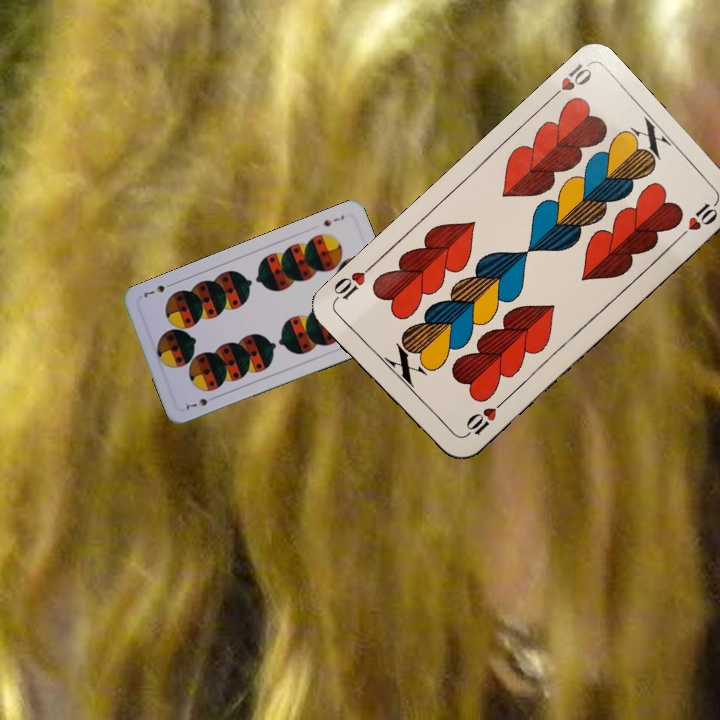H10: (543, 57, 595, 105), (458, 397, 507, 441)
S7: (182, 392, 219, 412), (319, 211, 347, 229)
